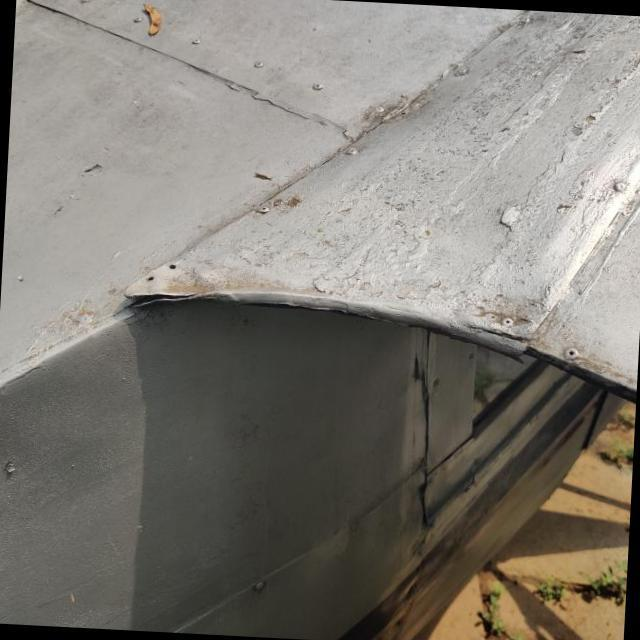Rupture: (106, 272, 220, 334), (456, 306, 540, 362)
